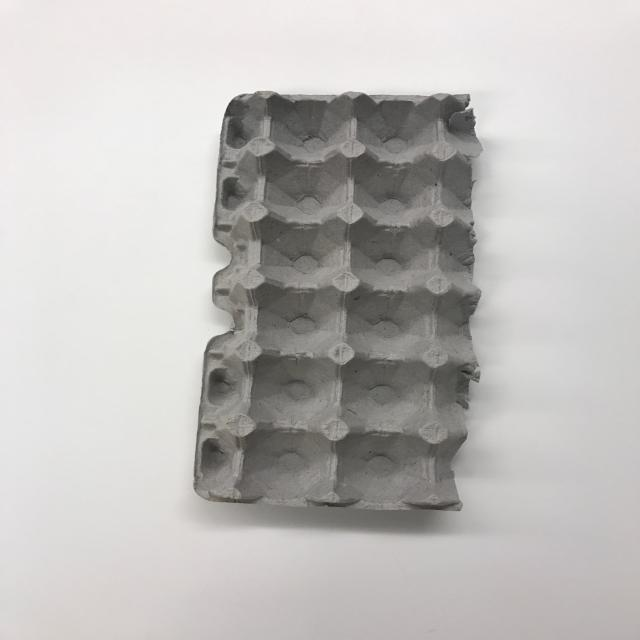Paper: (163, 71, 532, 558)
